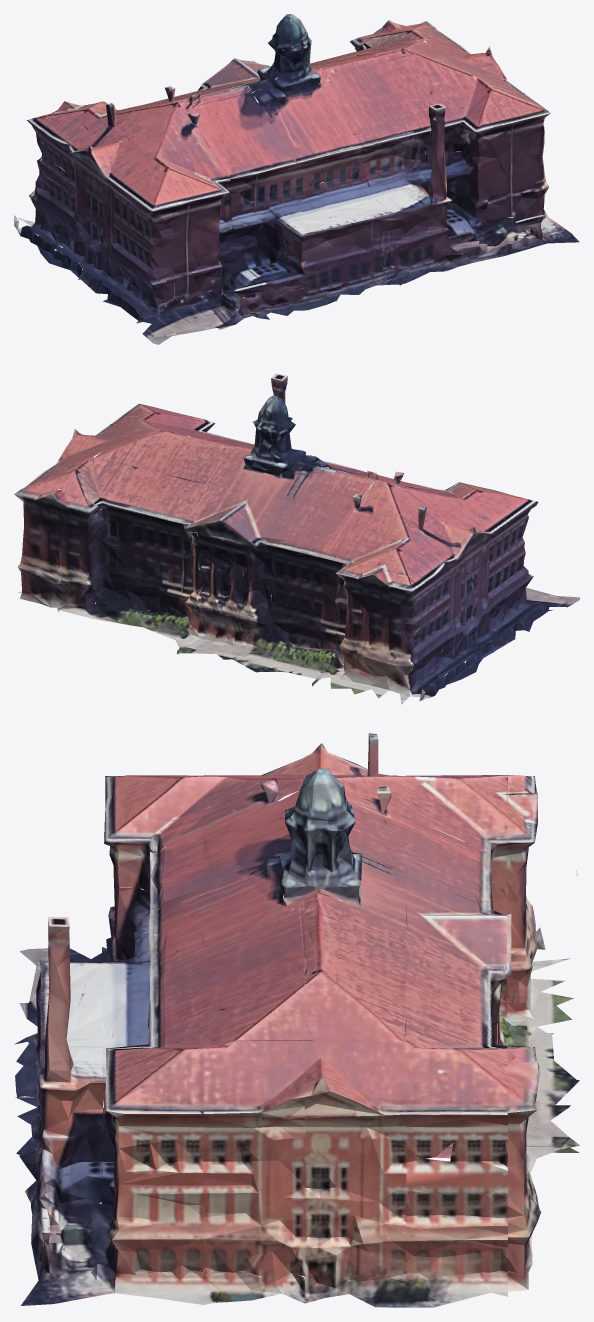
File: evans2.glb
3 renders of one model, top to bottom at view 1: azimuth 30°, elevation 25°; view 2: azimuth 150°, elevation 25°; view 3: azimuth 270°, elevation 25°, orthographic. The views are drawn at different scales.
Visible parts, largest first — view 1: BuildingMesh-00111.002_LOD1; view 2: BuildingMesh-00111.002_LOD1; view 3: BuildingMesh-00111.002_LOD1.
Boxes of the visible parts, x1,y1,x2,y2 form: BuildingMesh-00111.002_LOD1: [14, 14, 579, 344]; BuildingMesh-00111.002_LOD1: [14, 373, 579, 704]; BuildingMesh-00111.002_LOD1: [14, 733, 579, 1307].
Bounding box in the file's own units: 3.18 × 1.51 × 2.07.
Materials: 1 (1 with a texture image).
